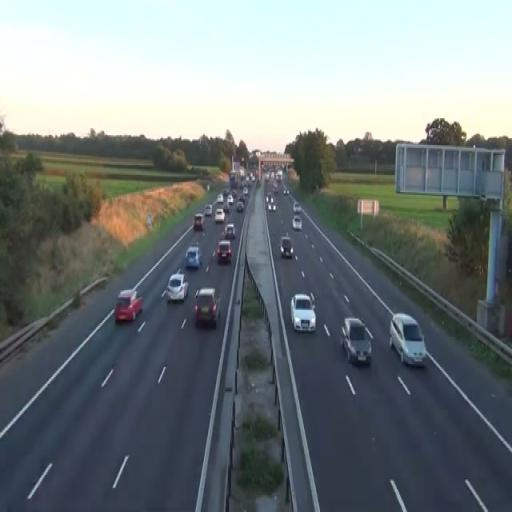Car: (389, 312, 426, 368), (340, 317, 373, 367), (192, 287, 222, 329), (114, 287, 144, 323), (290, 293, 316, 333), (166, 273, 188, 303), (184, 244, 203, 268), (217, 239, 232, 264), (224, 224, 236, 240), (214, 207, 225, 223)
